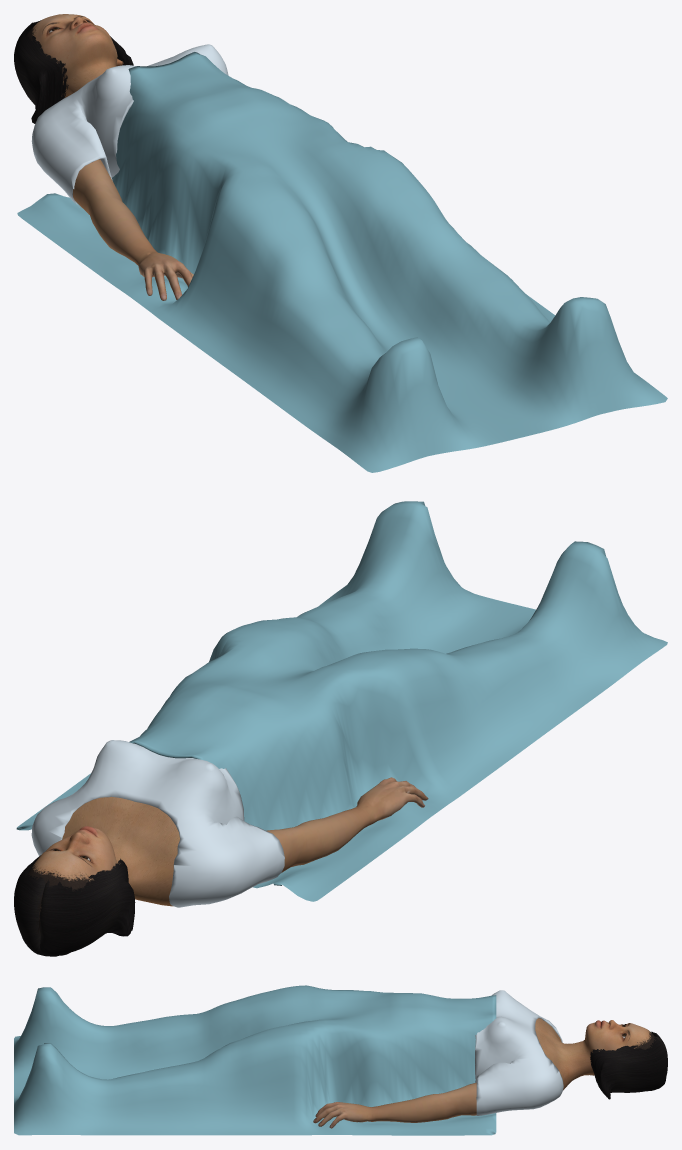
3 views of the same model, one above another, from view 1: azimuth 30°, elevation 25°; view 2: azimuth 150°, elevation 25°; view 3: azimuth 270°, elevation 25° (orthographic). The views are drawn at different scales.
Parts seen in each view (by area): view 1: sheet, gown, arms, body, hair; view 2: sheet, gown, body, hair, arms; view 3: sheet, gown, arms, body, hair.
Boxes of the visible parts, x1,y1,x2,y2 form: sheet: [17, 52, 667, 472]; gown: [31, 44, 228, 207]; arms: [73, 159, 193, 300]; body: [26, 14, 123, 98]; hair: [14, 20, 133, 123]; sheet: [16, 501, 667, 901]; gown: [31, 740, 284, 907]; body: [26, 796, 179, 933]; hair: [14, 855, 135, 956]; arms: [266, 777, 428, 872]; sheet: [14, 985, 496, 1135]; gown: [475, 990, 563, 1115]; arms: [313, 1082, 476, 1128]; body: [535, 1018, 655, 1090]; hair: [590, 1031, 667, 1099].
Bounding box in the file's own units: 0.6407 × 0.2526 × 1.78.
Materials: 8 (6 with a texture image).
